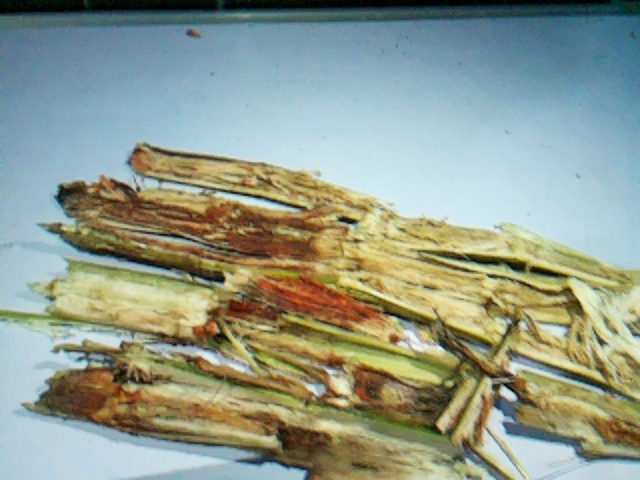Red-Rot: (14, 116, 634, 480)
